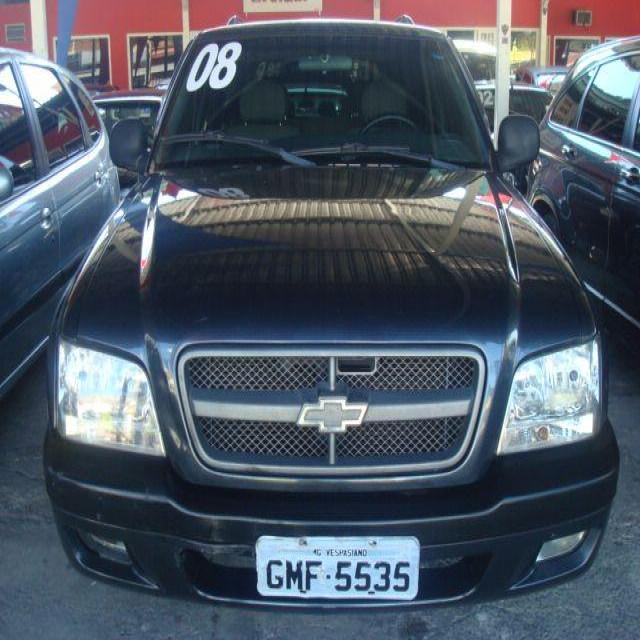Placa: (253, 532, 422, 601)
